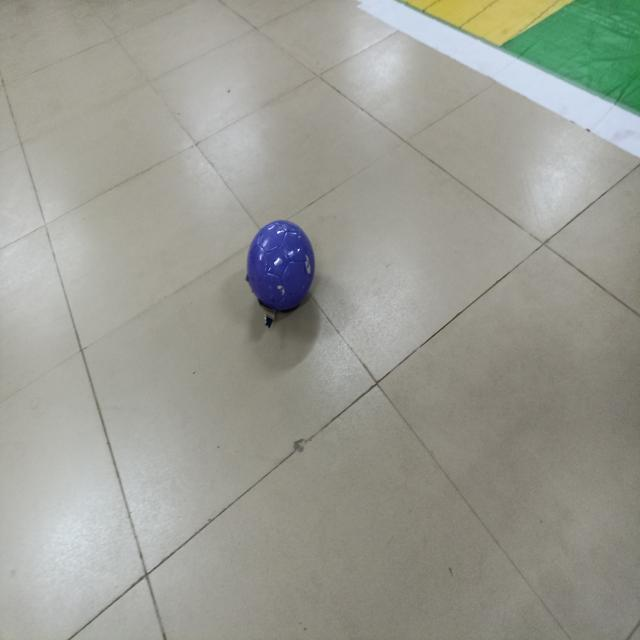purple_ball: (252, 225, 310, 312)
